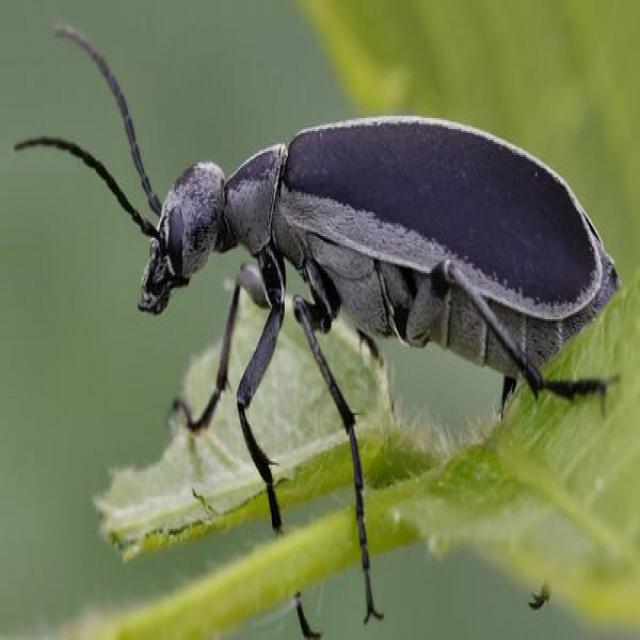BlisterBeetle-Adult-: (24, 20, 621, 549)
